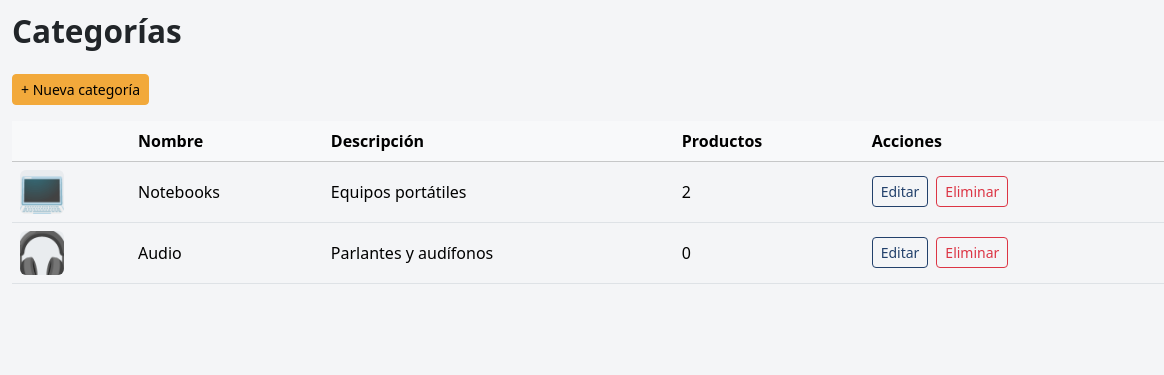
Test case: Vista AdminCategorias › muestra el mensaje del backend si la categoría tiene productos y luego elimina una vacía
Click the button "Eliminar" in the row of "Notebooks" at [972, 192], box [936,176,1008,207]
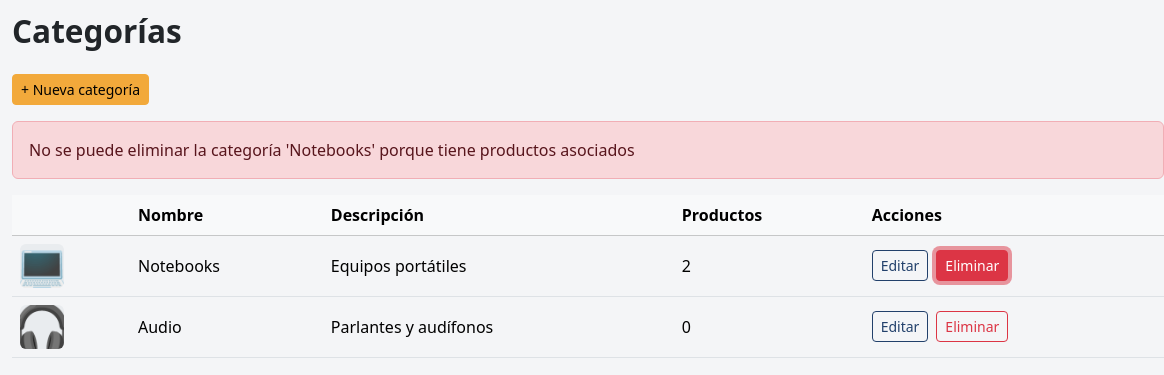
Check: the text "Notebooks" is shown, box [130,235,323,296]
Check: the message shows "tiene productos asociados", box [29,139,635,161]
Click the button "Eliminar" in the row of "Audio" at [972, 327], box [936,311,1008,342]
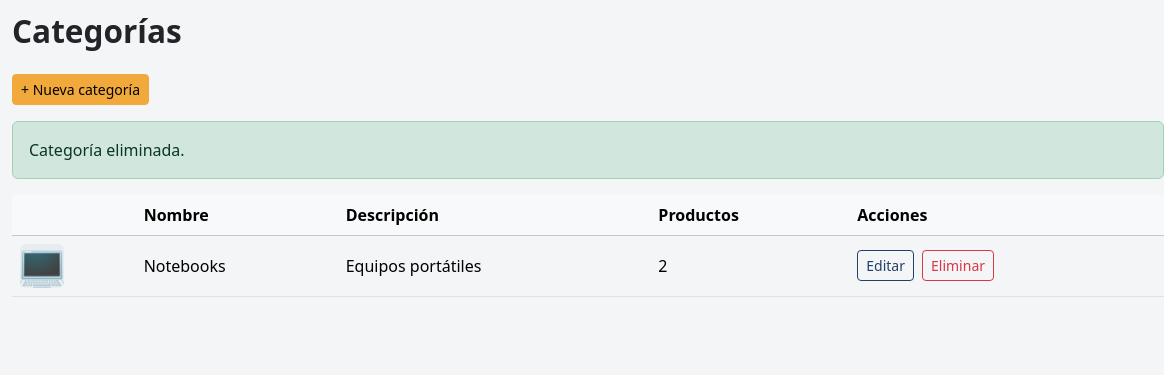
Check: the text "Categoría eliminada." is shown, box [12,121,1163,179]
Check: the text "Audio" is gone
